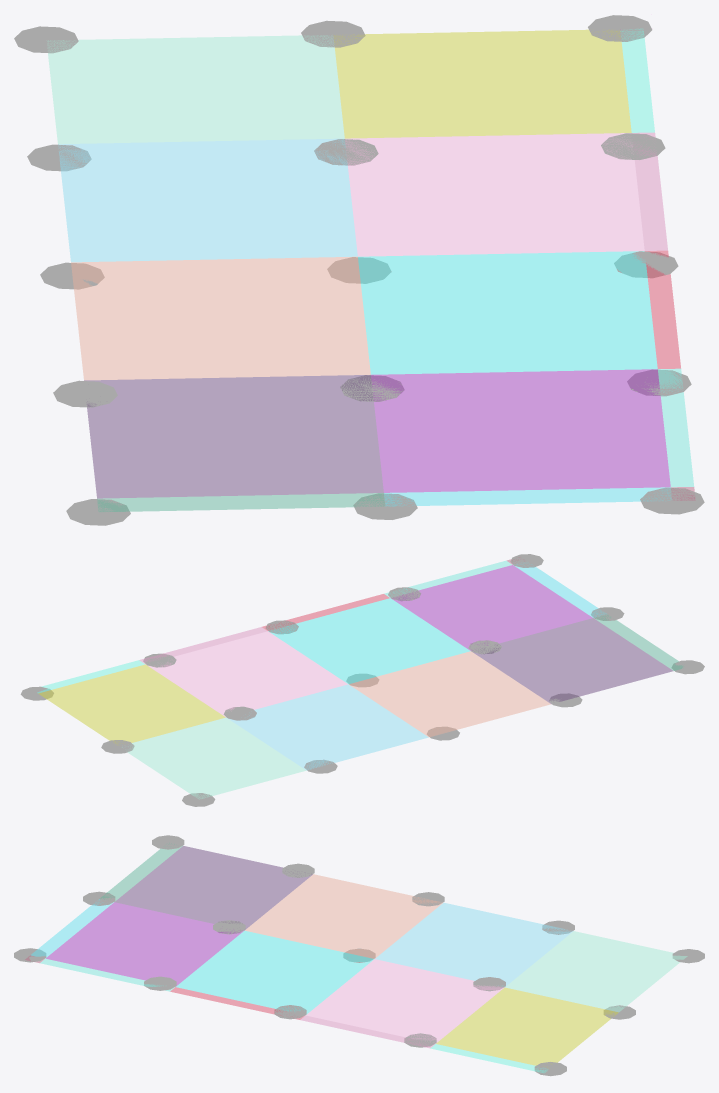
Rendered from CustomGridsTest.gltf.
3 views of the same model, one above another, from view 1: azimuth 30°, elevation 25°; view 2: azimuth 150°, elevation 25°; view 3: azimuth 270°, elevation 25° (orthographic). The views are drawn at different scales.
Visible parts, largest first — view 1: 77287e59-742b-48b8-8bf2-484e274e4315_mesh, 571249b7-543d-4aaa-87d5-b8892ac07949_mesh, 332cfeea-2d2e-49ed-b98b-15bab40efa3e_mesh, 2ef98fb2-594b-4de1-9e1c-38bd5a563cdc_mesh, 4481747a-fec9-4ddb-81e7-a58b9531a220_mesh, e8dcfa5d-b775-46d4-90d8-5c6223d93dec_mesh, 92881f38-0632-4b06-9d06-0722898b85cb_mesh, 6dfb4fcd-45a8-4615-8383-f4f2387f2f24_mesh, 20bd7723-5b22-4e29-bd0e-2f53dfbf48f1_mesh, 13a2dccc-db34-45f9-ba74-4651e00c9137_mesh, e49bef2d-406a-40b4-a0b7-61428408624e_mesh, 62676db0-83ea-40e3-bc9e-2595cca25839_mesh (+17 smaller); view 2: 77287e59-742b-48b8-8bf2-484e274e4315_mesh, 571249b7-543d-4aaa-87d5-b8892ac07949_mesh, 4481747a-fec9-4ddb-81e7-a58b9531a220_mesh, 2ef98fb2-594b-4de1-9e1c-38bd5a563cdc_mesh, 332cfeea-2d2e-49ed-b98b-15bab40efa3e_mesh, e8dcfa5d-b775-46d4-90d8-5c6223d93dec_mesh, 6dfb4fcd-45a8-4615-8383-f4f2387f2f24_mesh, 92881f38-0632-4b06-9d06-0722898b85cb_mesh, 20bd7723-5b22-4e29-bd0e-2f53dfbf48f1_mesh, 13a2dccc-db34-45f9-ba74-4651e00c9137_mesh, 7d082cfa-1fe4-4679-94dd-e582cdcbe791_mesh, 62676db0-83ea-40e3-bc9e-2595cca25839_mesh (+2 smaller); view 3: 77287e59-742b-48b8-8bf2-484e274e4315_mesh, e8dcfa5d-b775-46d4-90d8-5c6223d93dec_mesh, 571249b7-543d-4aaa-87d5-b8892ac07949_mesh, 2ef98fb2-594b-4de1-9e1c-38bd5a563cdc_mesh, 332cfeea-2d2e-49ed-b98b-15bab40efa3e_mesh, 4481747a-fec9-4ddb-81e7-a58b9531a220_mesh, 92881f38-0632-4b06-9d06-0722898b85cb_mesh, 6dfb4fcd-45a8-4615-8383-f4f2387f2f24_mesh, 13a2dccc-db34-45f9-ba74-4651e00c9137_mesh, 20bd7723-5b22-4e29-bd0e-2f53dfbf48f1_mesh, 7d082cfa-1fe4-4679-94dd-e582cdcbe791_mesh, e49bef2d-406a-40b4-a0b7-61428408624e_mesh (+2 smaller).
Boxes of the visible parts, <box> form: 77287e59-742b-48b8-8bf2-484e274e4315_mesh: <box>71,256,370,380</box>; 571249b7-543d-4aaa-87d5-b8892ac07949_mesh: <box>358,251,657,374</box>; 332cfeea-2d2e-49ed-b98b-15bab40efa3e_mesh: <box>371,369,670,492</box>; 2ef98fb2-594b-4de1-9e1c-38bd5a563cdc_mesh: <box>58,138,357,262</box>; 4481747a-fec9-4ddb-81e7-a58b9531a220_mesh: <box>84,375,383,498</box>; e8dcfa5d-b775-46d4-90d8-5c6223d93dec_mesh: <box>345,133,644,256</box>; 92881f38-0632-4b06-9d06-0722898b85cb_mesh: <box>47,35,344,144</box>; 6dfb4fcd-45a8-4615-8383-f4f2387f2f24_mesh: <box>334,29,631,138</box>; 20bd7723-5b22-4e29-bd0e-2f53dfbf48f1_mesh: <box>97,493,384,511</box>; 13a2dccc-db34-45f9-ba74-4651e00c9137_mesh: <box>384,487,671,506</box>; e49bef2d-406a-40b4-a0b7-61428408624e_mesh: <box>658,368,694,487</box>; 62676db0-83ea-40e3-bc9e-2595cca25839_mesh: <box>645,250,680,368</box>; 77287e59-742b-48b8-8bf2-484e274e4315_mesh: <box>349,651,550,737</box>; 571249b7-543d-4aaa-87d5-b8892ac07949_mesh: <box>268,598,470,683</box>; 4481747a-fec9-4ddb-81e7-a58b9531a220_mesh: <box>471,618,672,703</box>; 2ef98fb2-594b-4de1-9e1c-38bd5a563cdc_mesh: <box>227,684,428,770</box>; 332cfeea-2d2e-49ed-b98b-15bab40efa3e_mesh: <box>391,565,592,650</box>; e8dcfa5d-b775-46d4-90d8-5c6223d93dec_mesh: <box>148,631,347,716</box>; 6dfb4fcd-45a8-4615-8383-f4f2387f2f24_mesh: <box>38,664,225,744</box>; 92881f38-0632-4b06-9d06-0722898b85cb_mesh: <box>122,717,305,799</box>; 20bd7723-5b22-4e29-bd0e-2f53dfbf48f1_mesh: <box>594,614,683,670</box>; 13a2dccc-db34-45f9-ba74-4651e00c9137_mesh: <box>513,563,606,617</box>; 7d082cfa-1fe4-4679-94dd-e582cdcbe791_mesh: <box>139,627,266,663</box>; 62676db0-83ea-40e3-bc9e-2595cca25839_mesh: <box>262,594,389,630</box>; 77287e59-742b-48b8-8bf2-484e274e4315_mesh: <box>245,874,442,958</box>; e8dcfa5d-b775-46d4-90d8-5c6223d93dec_mesh: <box>306,959,504,1043</box>; 571249b7-543d-4aaa-87d5-b8892ac07949_mesh: <box>176,931,373,1014</box>; 2ef98fb2-594b-4de1-9e1c-38bd5a563cdc_mesh: <box>375,903,573,986</box>; 332cfeea-2d2e-49ed-b98b-15bab40efa3e_mesh: <box>46,902,243,986</box>; 4481747a-fec9-4ddb-81e7-a58b9531a220_mesh: <box>115,846,312,930</box>; 92881f38-0632-4b06-9d06-0722898b85cb_mesh: <box>505,931,687,1012</box>; 6dfb4fcd-45a8-4615-8383-f4f2387f2f24_mesh: <box>436,987,618,1065</box>; 13a2dccc-db34-45f9-ba74-4651e00c9137_mesh: <box>31,899,113,958</box>; 20bd7723-5b22-4e29-bd0e-2f53dfbf48f1_mesh: <box>99,843,182,900</box>; 7d082cfa-1fe4-4679-94dd-e582cdcbe791_mesh: <box>300,1015,434,1048</box>; e49bef2d-406a-40b4-a0b7-61428408624e_mesh: <box>40,959,174,991</box>.
Size of what is drawn, in the model's own units: 33.77 by 2.93e-14 by 40.5.
